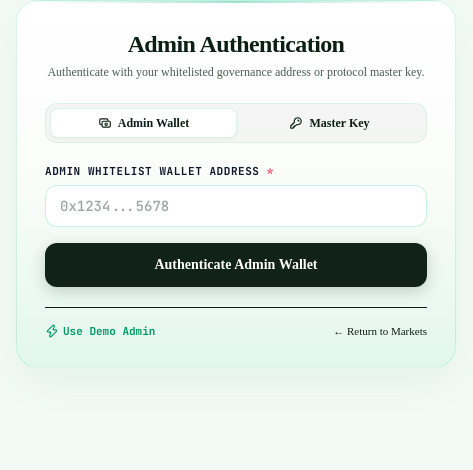
Test: AdminLoginForm Component › shows error for invalid EVM address format
In the field labelled "Admin Whitelist Wallet Address *": (236, 206) x1=45 y1=185 x2=427 y2=227, type "invalid-address-format"
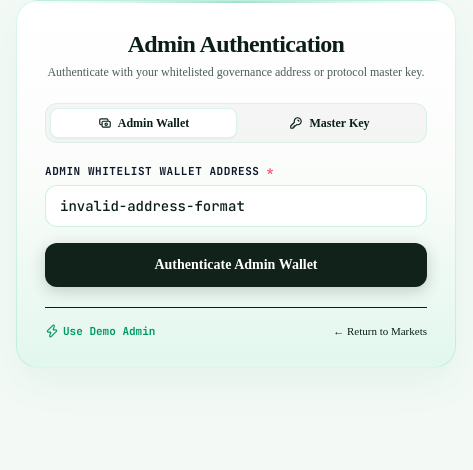
Click the button "Authenticate Admin Wallet": (236, 265) x1=45 y1=243 x2=427 y2=287
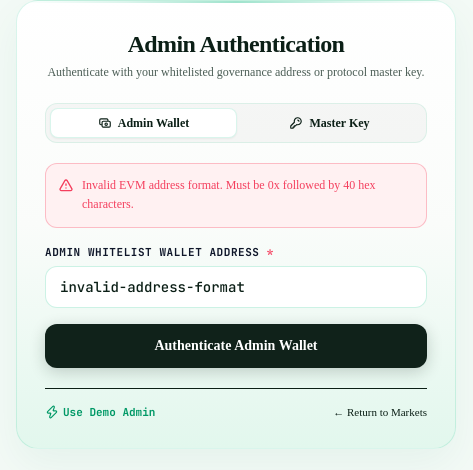
Result: the text "Invalid EVM address format" is shown at x1=82 y1=178 x2=376 y2=211
